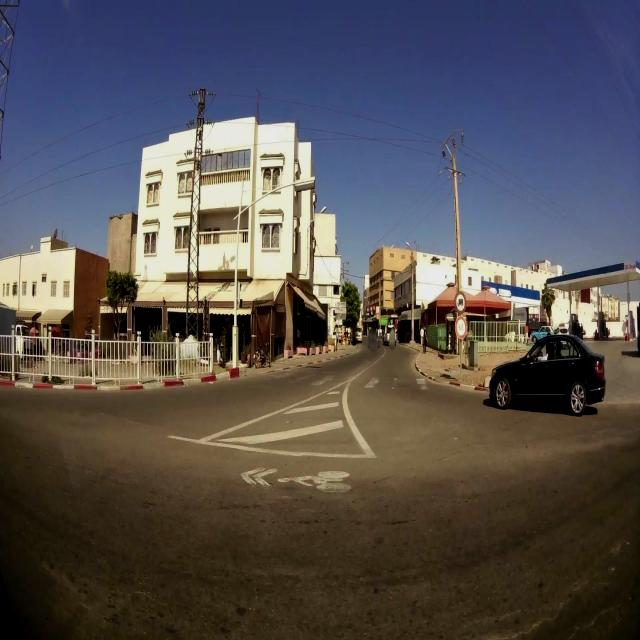car: (487, 334, 606, 416), (529, 324, 554, 343), (555, 324, 570, 337)
